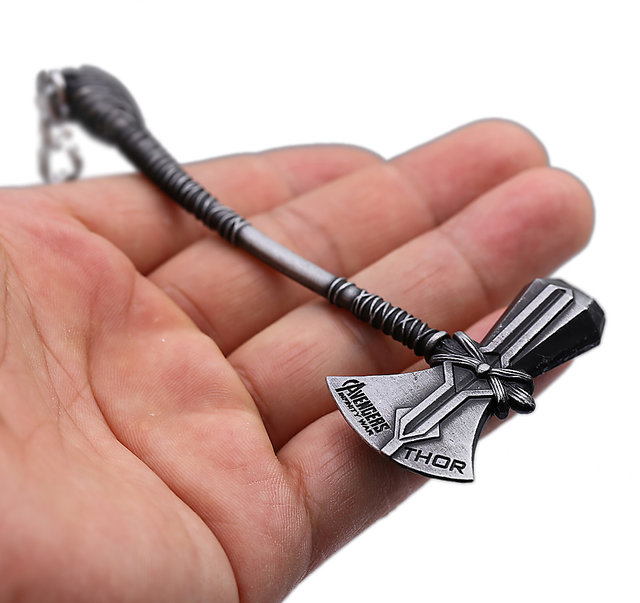THOR Hammer: (68, 59, 606, 481)
